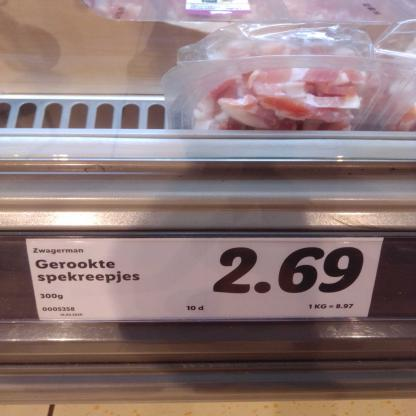prtg: (27, 238, 385, 321)
